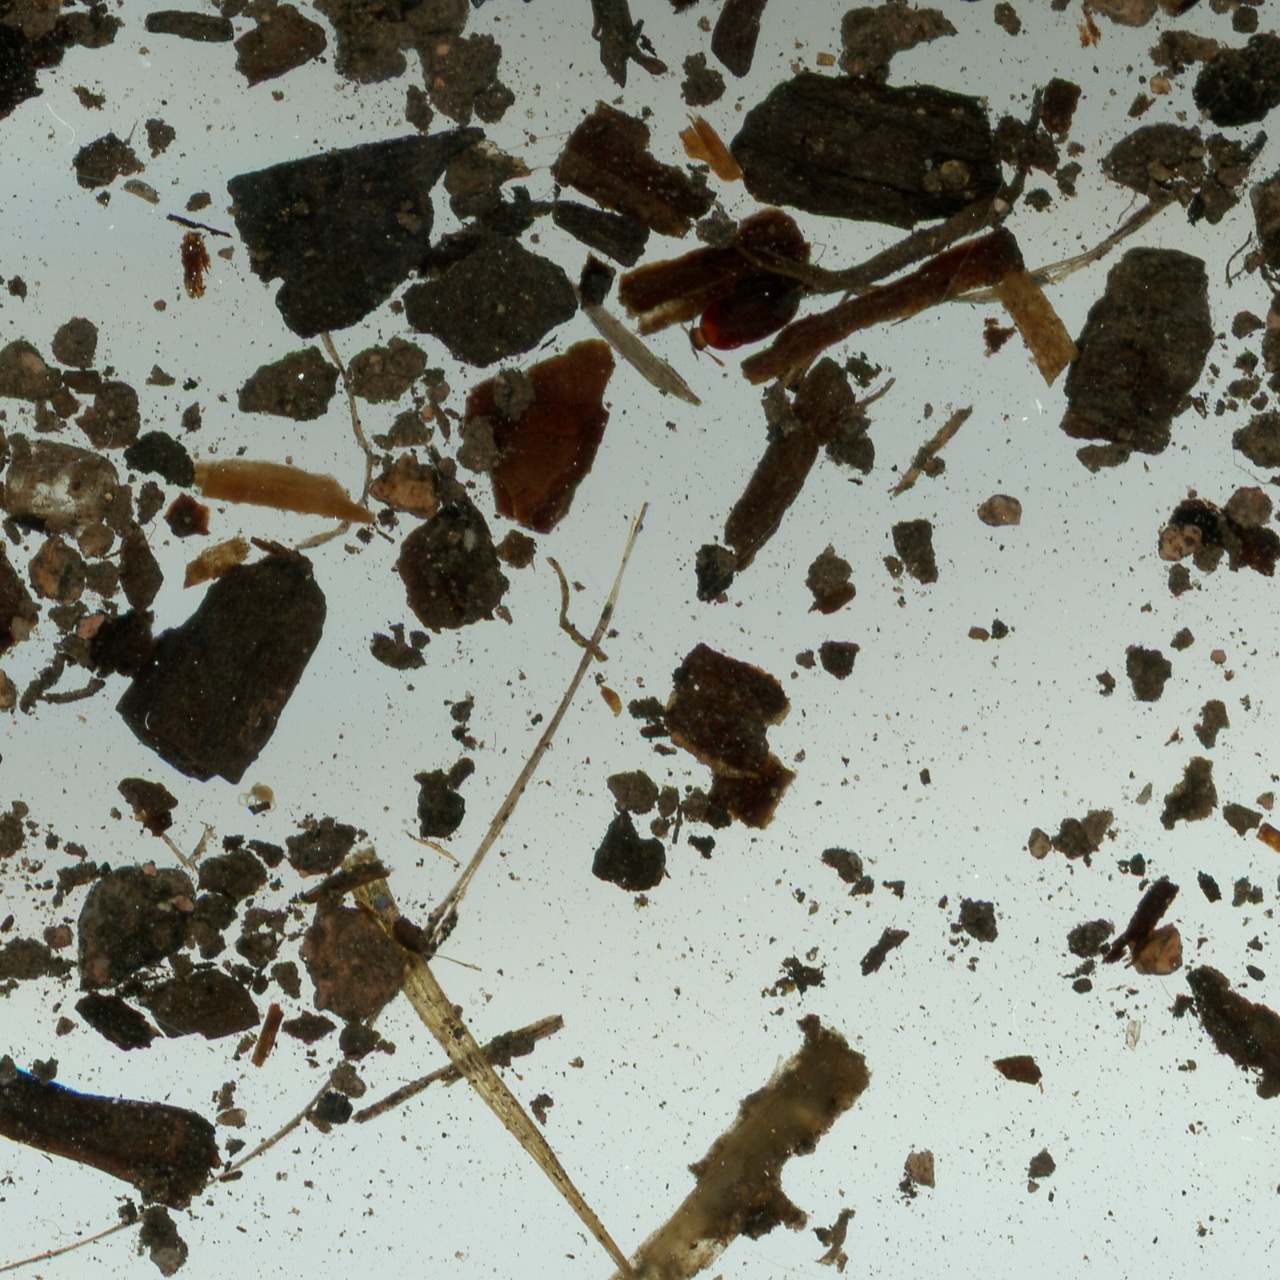arthropod: (666, 238, 816, 390), (238, 782, 279, 817)
